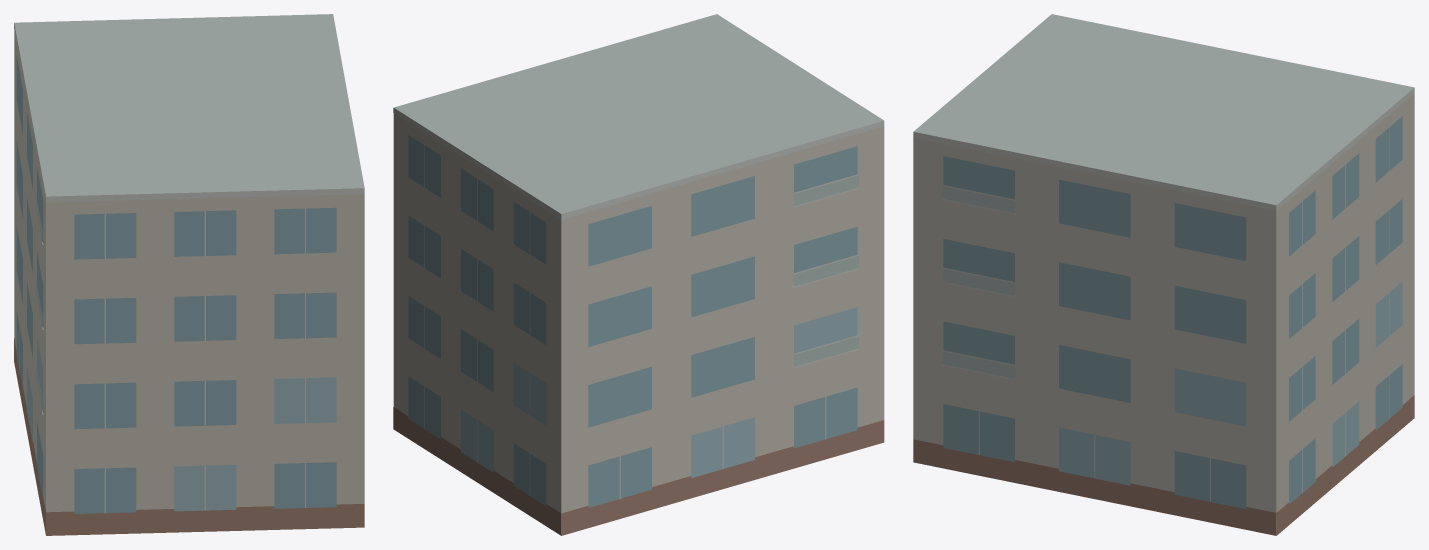
The model's file is survey-upis-32890207.glb.
The picture shows the model from 3 angles, left to right: view 1: azimuth 30°, elevation 25°; view 2: azimuth 150°, elevation 25°; view 3: azimuth 270°, elevation 25°; orthographic projection. The views are drawn at different scales.
Visible parts, largest first — view 1: survey-upis-32890207.tmp; view 2: survey-upis-32890207.tmp; view 3: survey-upis-32890207.tmp.
Boxes of the visible parts, bbox=[...] form: survey-upis-32890207.tmp: bbox=[14, 14, 364, 535]; survey-upis-32890207.tmp: bbox=[393, 14, 884, 535]; survey-upis-32890207.tmp: bbox=[913, 14, 1414, 535].
Bounding box in the file's own units: 17.63 × 14.2 × 19.52.
